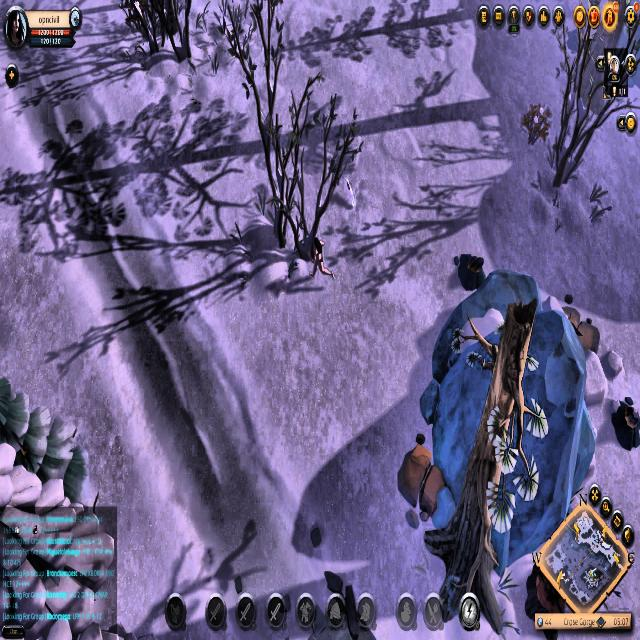copper_ore: (610, 386, 640, 456), (454, 241, 488, 300)
cotton: (519, 98, 552, 150)
limestone: (396, 438, 446, 527)
